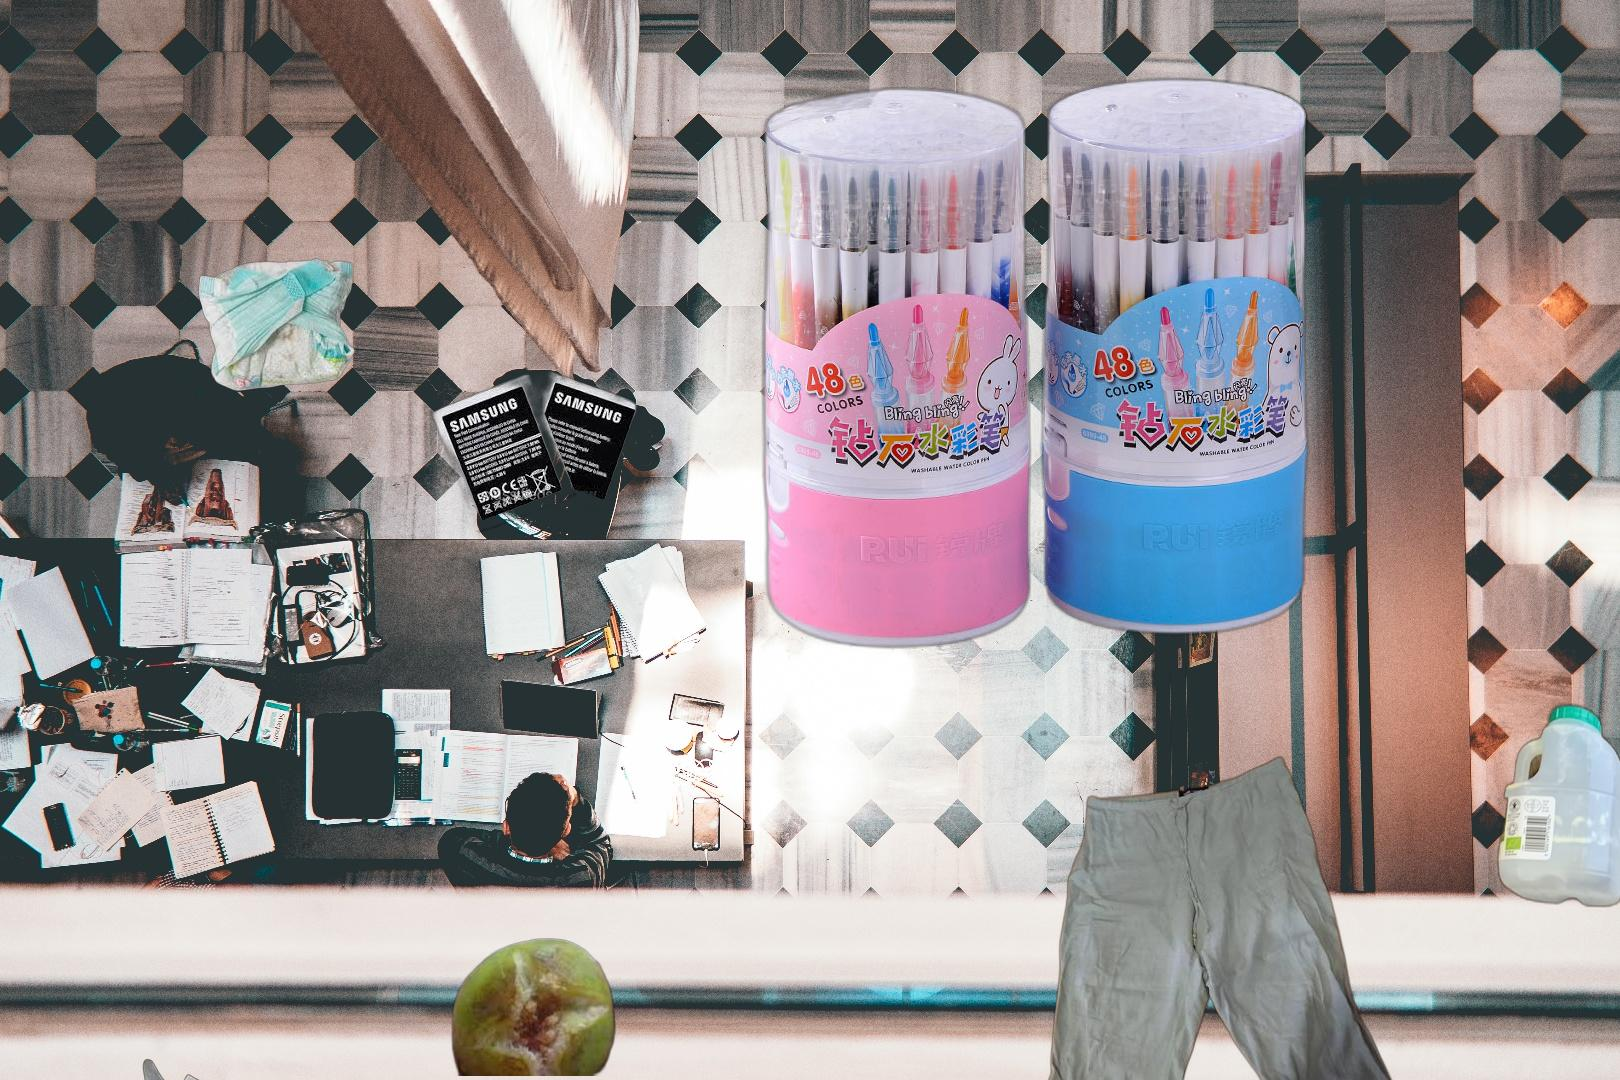battery: (427, 356, 650, 540)
biological: (450, 937, 618, 1076)
clothes: (1027, 753, 1402, 1080)
penholder: (755, 72, 1315, 655)
plastic-bag: (80, 1056, 309, 1080)
plastic-bottles: (1493, 699, 1620, 1080)
trash: (196, 257, 358, 393)
